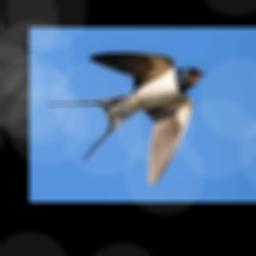Swallow: (46, 52, 205, 185)
